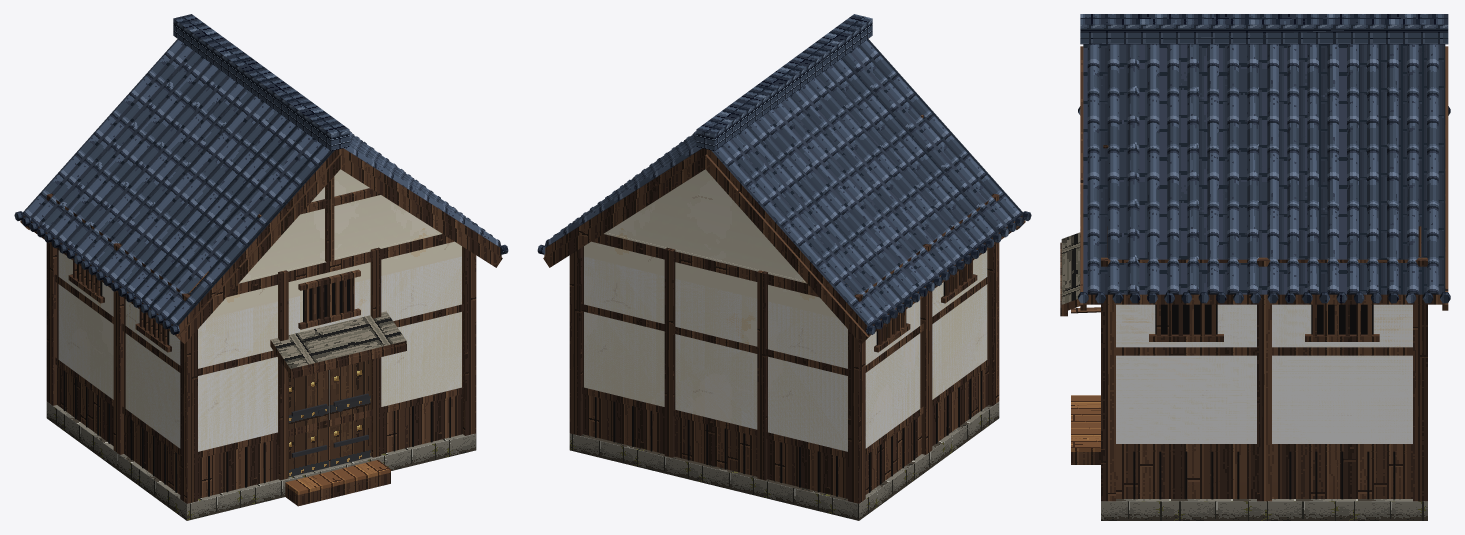
Rendered from JP_Rich_Storehouse_B.glb.
The picture shows the model from 3 angles, left to right: view 1: azimuth 30°, elevation 25°; view 2: azimuth 150°, elevation 25°; view 3: azimuth 270°, elevation 25°; orthographic projection. The views are drawn at different scales.
Visible parts, largest first — view 1: JP_Rich_Storehouse_B, COL_JP_Rich_Storehouse_B; view 2: JP_Rich_Storehouse_B, COL_JP_Rich_Storehouse_B; view 3: JP_Rich_Storehouse_B, COL_JP_Rich_Storehouse_B.
Part boxes in pixels (bbox=[...]): JP_Rich_Storehouse_B: bbox=[14, 14, 508, 520]; COL_JP_Rich_Storehouse_B: bbox=[58, 251, 461, 451]; JP_Rich_Storehouse_B: bbox=[537, 14, 1031, 520]; COL_JP_Rich_Storehouse_B: bbox=[584, 250, 987, 451]; JP_Rich_Storehouse_B: bbox=[1060, 14, 1450, 520]; COL_JP_Rich_Storehouse_B: bbox=[1116, 304, 1412, 443].
Bounding box in the file's own units: 7.2 × 7.42 × 6.26.
Materials: 12 (12 with a texture image).
